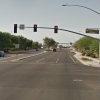Traffic light: (9, 19, 65, 44)
